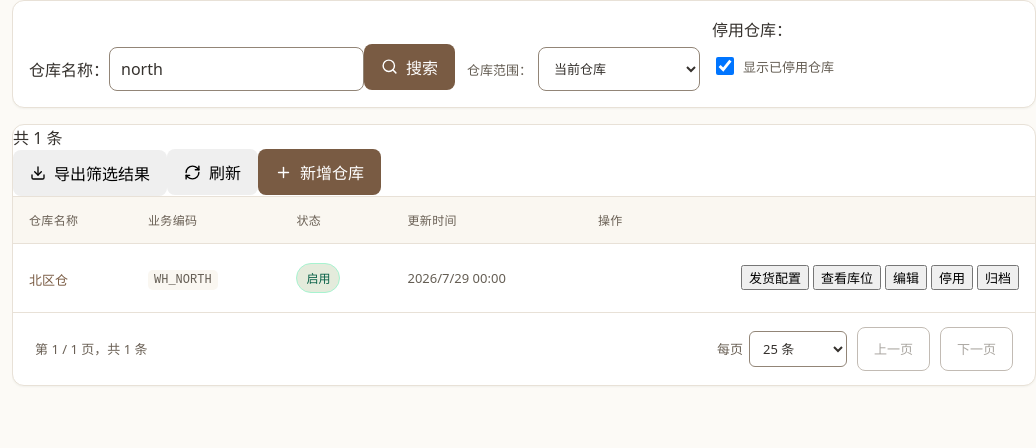
Test: WarehouseCenterPage › downloads the current filtered warehouse result and announces success
Expected: the text "WH_NORTH" is shown, left=148, top=270, right=218, bottom=290
Click the button "导出筛选结果": [90, 172] box left=13, top=150, right=167, bottom=196
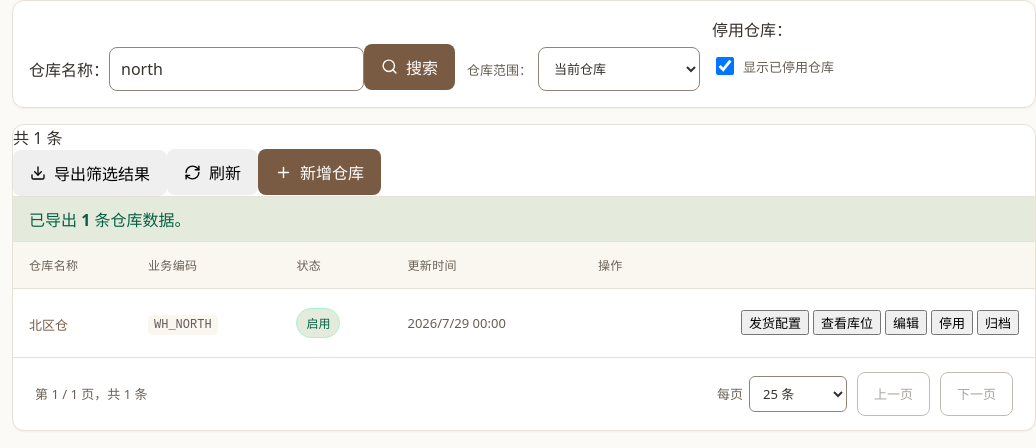
Now the text "已导出 1 条仓库数据。" is shown, box left=13, top=196, right=1035, bottom=240
